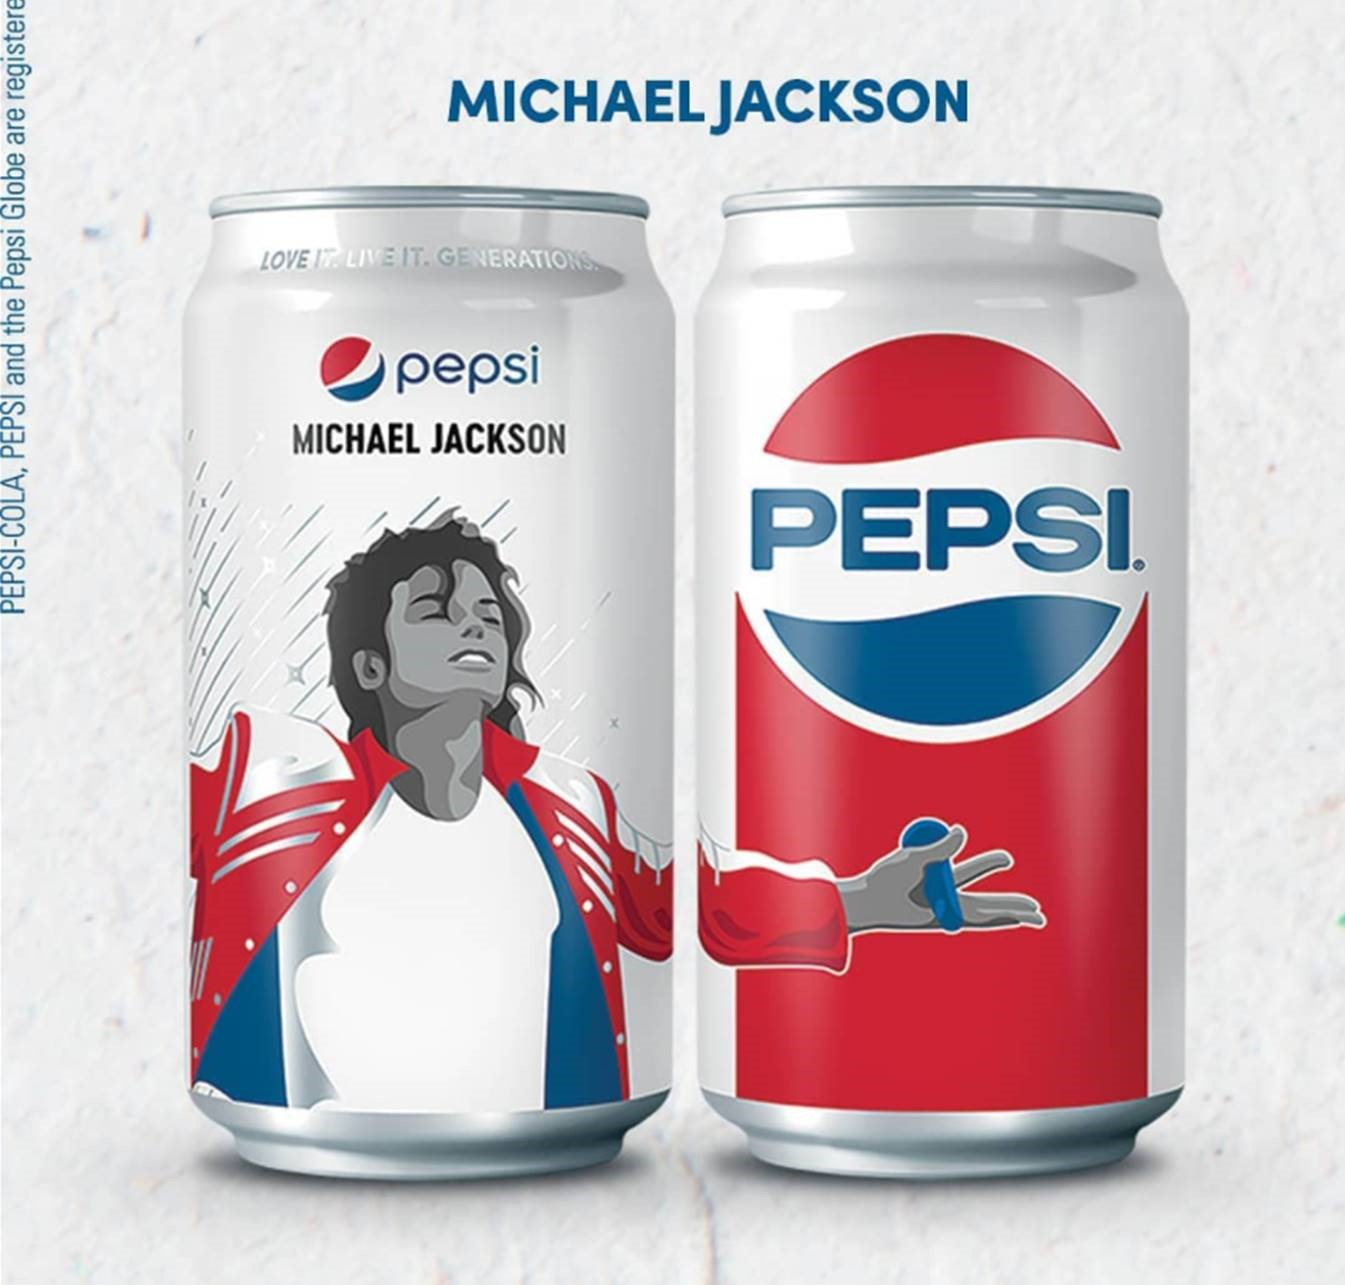pepsi: (733, 334, 1149, 742), (317, 329, 382, 400)
